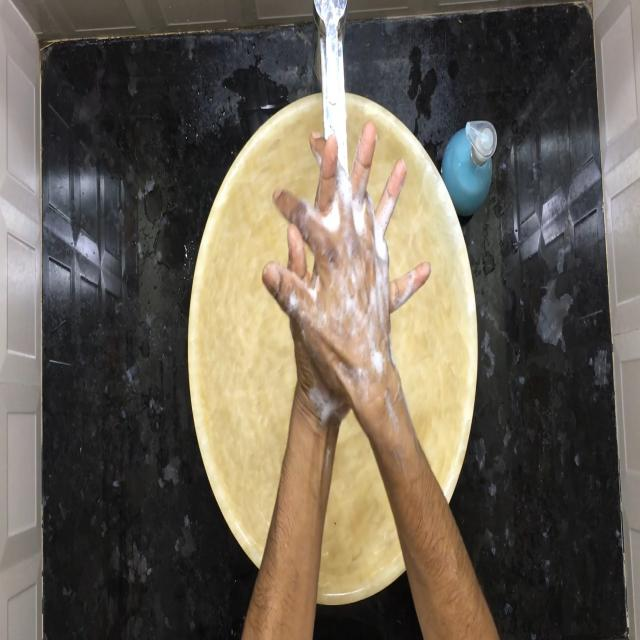step_3: (262, 111, 419, 399)
